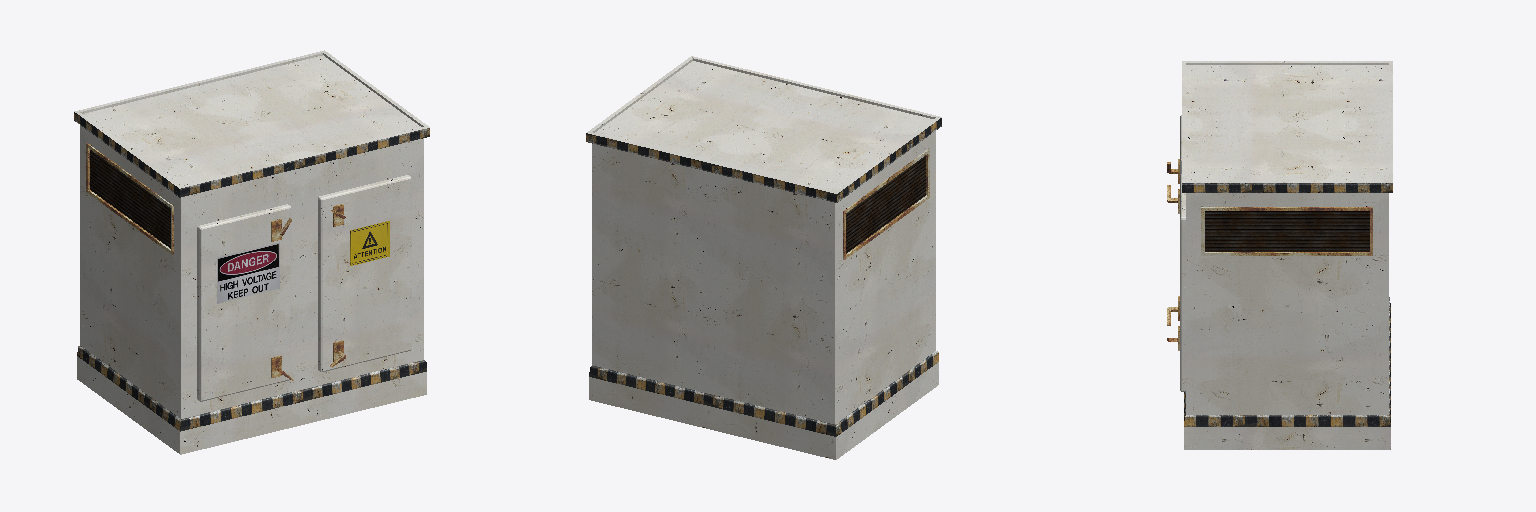
The picture shows the model from 3 angles: view 1: azimuth 30°, elevation 25°; view 2: azimuth 150°, elevation 25°; view 3: azimuth 270°, elevation 25°; orthographic projection.
Parts seen in each view (by area): view 1: energiebox.obj; view 2: energiebox.obj; view 3: energiebox.obj.
Boxes of the visible parts, x1=… form: energiebox.obj: x1=74, y1=50, x2=429, y2=454; energiebox.obj: x1=586, y1=56, x2=941, y2=459; energiebox.obj: x1=1167, y1=61, x2=1392, y2=449.
Size of the model in its own units: 2.34 by 2.39 by 1.83.
1 materials, 1 textured.